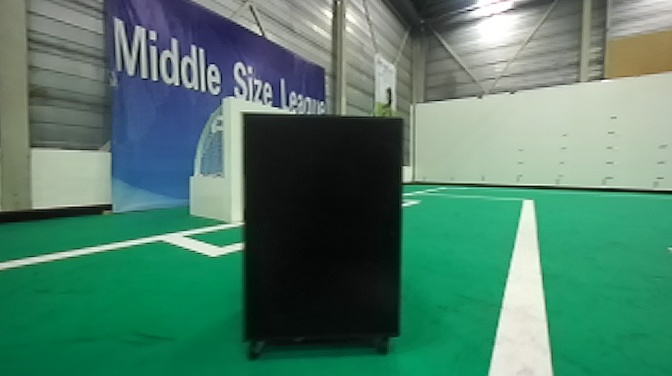goalpost: (217, 94, 244, 224)
